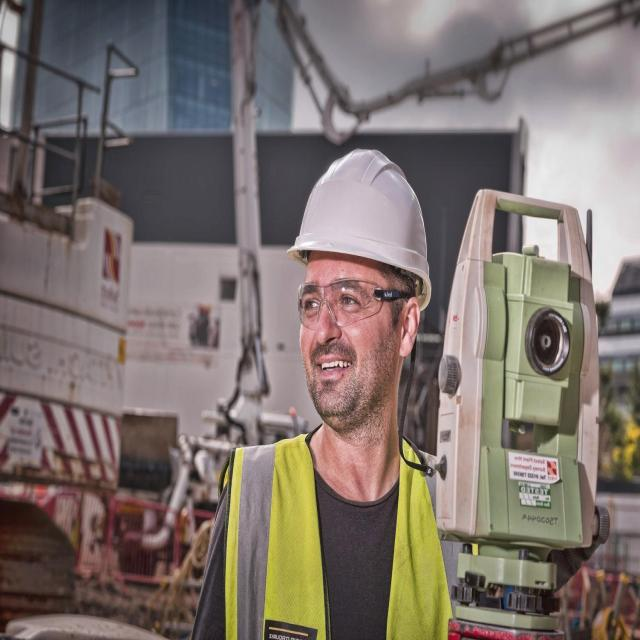face_nomask: (290, 252, 402, 420)
glasses: (295, 278, 388, 332)
head_helmet: (286, 145, 431, 282)
person: (192, 141, 446, 640)
vest: (218, 435, 466, 640)
